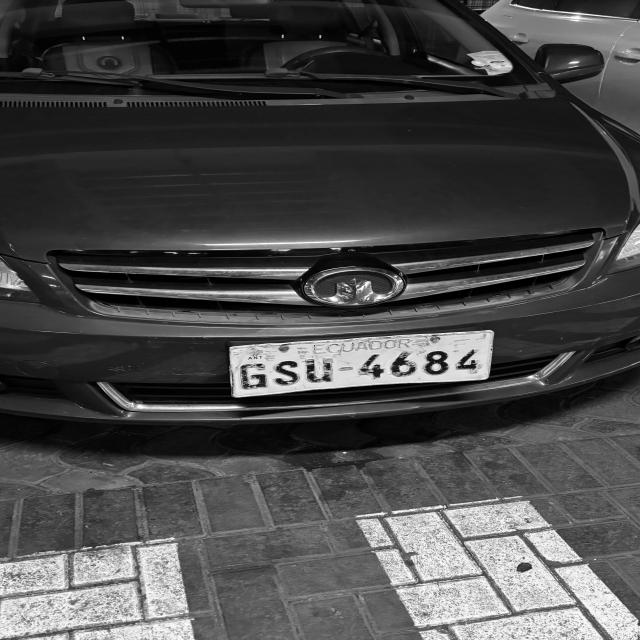Placa: (230, 331, 493, 397)
